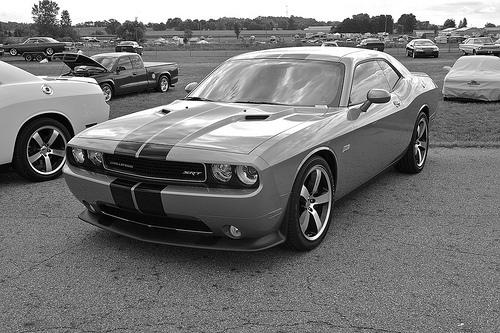car: (63, 45, 439, 255)
